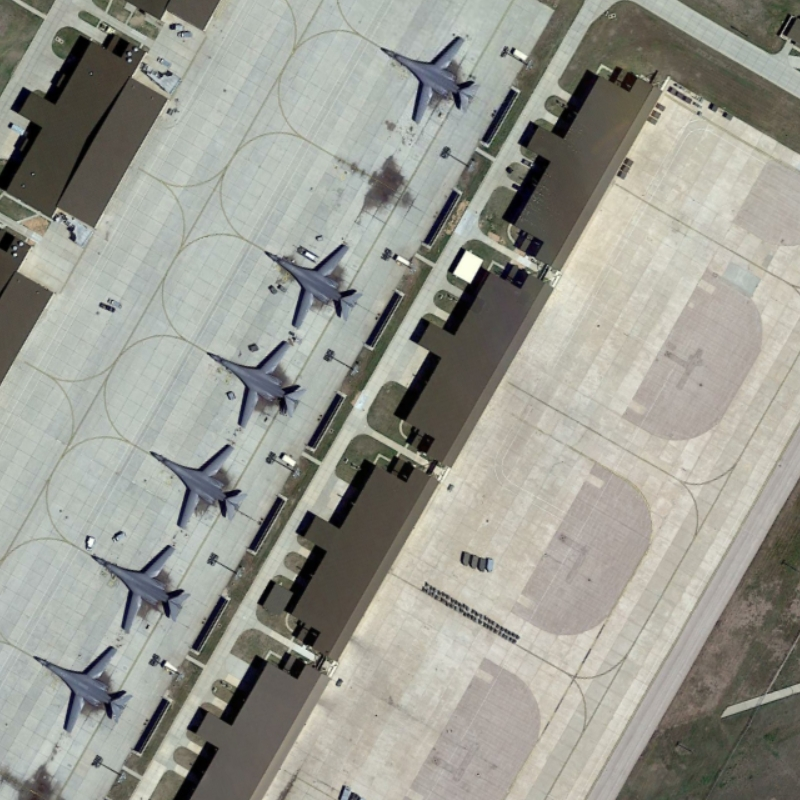A10: (254, 234, 371, 337), (375, 26, 487, 129), (139, 437, 254, 533), (199, 334, 309, 432), (84, 541, 194, 637), (29, 639, 134, 739)
